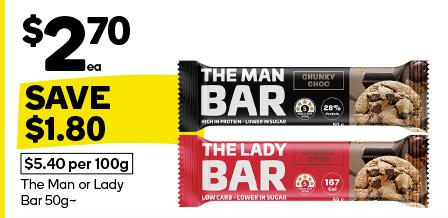description_block: (16, 175, 131, 212)
price_main: (12, 7, 145, 74)
product_image_block: (172, 53, 435, 213)
promo_text_block: (7, 76, 180, 149)
unit_price_block: (15, 149, 139, 178)
